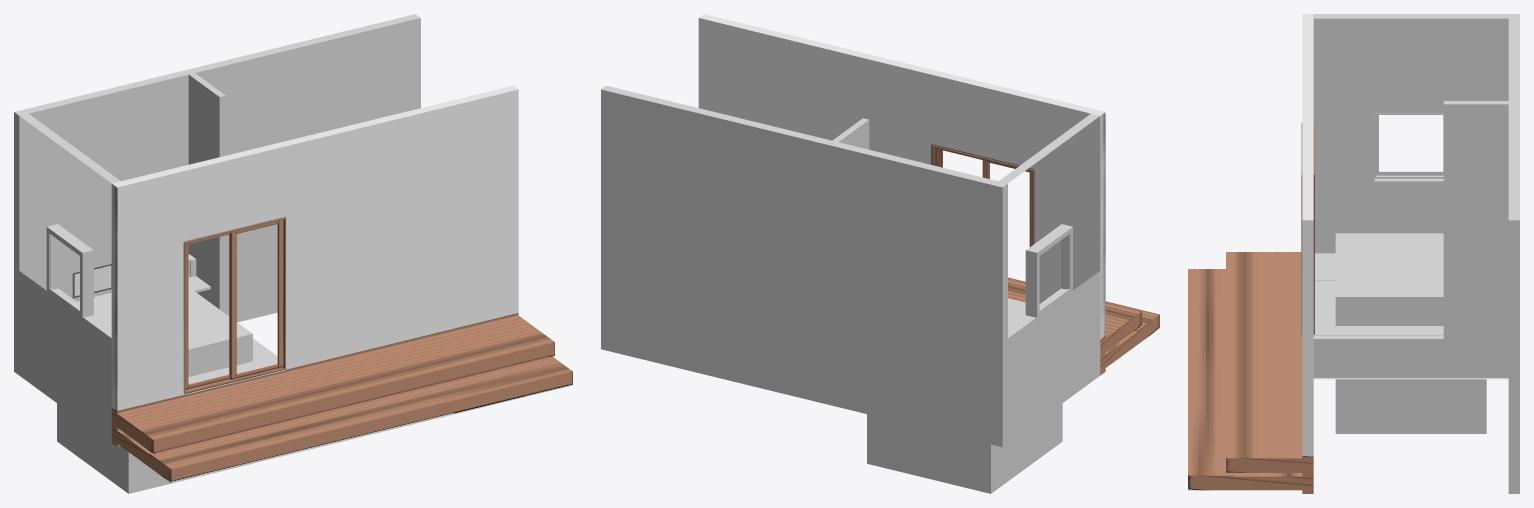
3 renders of one model, left to right at view 1: azimuth 30°, elevation 25°; view 2: azimuth 150°, elevation 25°; view 3: azimuth 270°, elevation 25°, orthographic. The views are drawn at different scales.
Visible parts, largest first — view 1: 1.wall.002, 1.wall.001, 1.wall, 立方体.020, 4-2.deck.002, 4-2.deck, 1.wall.003, 3.window.001, 4.deck.009, 4.deck.010, 4.deck.014, 4.deck.004 (+18 smaller); view 2: 1.wall.001, 1.wall.002, 1.wall, 立方体.020, 3-2.window, 4.deck.011, 立方体.001, 1.wall.003; view 3: 1.wall, 立方体.020, 1.wall.003, 2.floor, 1.wall.002, 1.wall.001, 4.deck.011, 4.deck.013, 4.deck.004, 4.deck.006, 4.deck.001, 4.deck.003 (+19 smaller).
Part boxes in pixels (x1,y1,x2,y2): 1.wall.002: (111,85,518,447); 1.wall.001: (14,14,420,374); 1.wall: (19,113,120,442); 立方体.020: (57,287,252,493); 4-2.deck.002: (171,371,572,483); 4-2.deck: (153,342,554,453); 1.wall.003: (188,73,225,313); 3.window.001: (230,220,283,379); 4.deck.009: (120,318,525,419); 4.deck.010: (117,315,521,416); 4.deck.014: (160,363,564,464); 4.deck.004: (138,331,543,432); 1.wall.001: (601,85,1007,447); 1.wall.002: (698,14,1105,375); 1.wall: (999,113,1100,442); 立方体.020: (867,298,1062,493); 3-2.window: (1025,224,1072,317); 4.deck.011: (1105,316,1159,367); 立方体.001: (1037,228,1072,315); 1.wall.003: (832,118,869,149); 1.wall: (1313,14,1508,252); 立方体.020: (1335,233,1486,433); 1.wall.003: (1443,101,1508,338); 2.floor: (1313,335,1508,377); 1.wall.002: (1302,14,1313,493); 1.wall.001: (1508,14,1519,493); 4.deck.011: (1189,473,1302,490); 4.deck.013: (1196,269,1204,476); 4.deck.004: (1249,252,1257,459); 4.deck.006: (1264,252,1272,459); 4.deck.001: (1227,252,1234,459); 4.deck.003: (1242,252,1249,459).
Bounding box in the file's own units: 6.49 × 5 × 4.4.
Materials: 3 (1 with a texture image).
